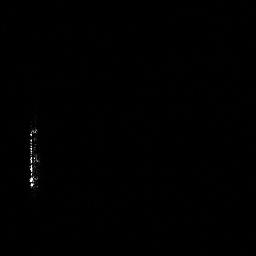ship: (23, 125, 43, 195)
